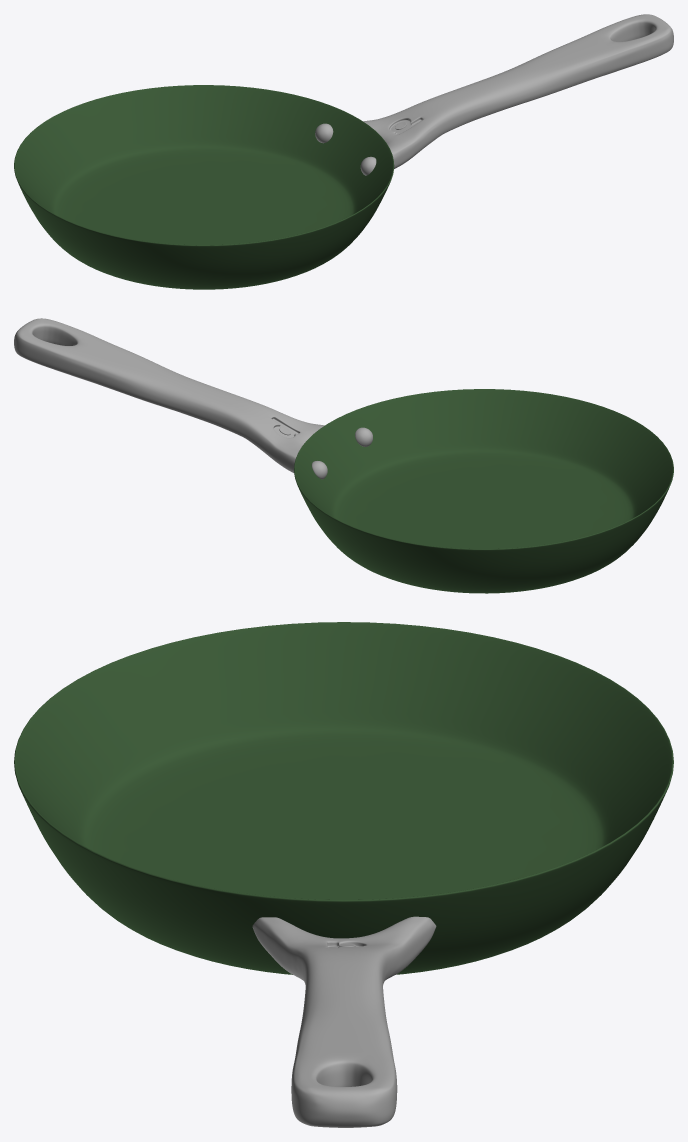
Rendered from 8inch_fry_forest.glb.
The picture shows the model from 3 angles, top to bottom: view 1: azimuth 30°, elevation 25°; view 2: azimuth 150°, elevation 25°; view 3: azimuth 270°, elevation 25°; orthographic projection. The views are drawn at different scales.
Parts seen in each view (by area): view 1: pan_body_geo, handle_geo; view 2: pan_body_geo, handle_geo; view 3: pan_body_geo, handle_geo.
Part boxes in pixels (x1,y1,x2,y2): pan_body_geo: (14, 85, 394, 289); handle_geo: (363, 14, 673, 168); pan_body_geo: (294, 389, 673, 593); handle_geo: (14, 318, 324, 472); pan_body_geo: (14, 622, 673, 974); handle_geo: (252, 916, 436, 1127).
Bounding box in the file's own units: 0.4054 × 0.0623 × 0.2123.
